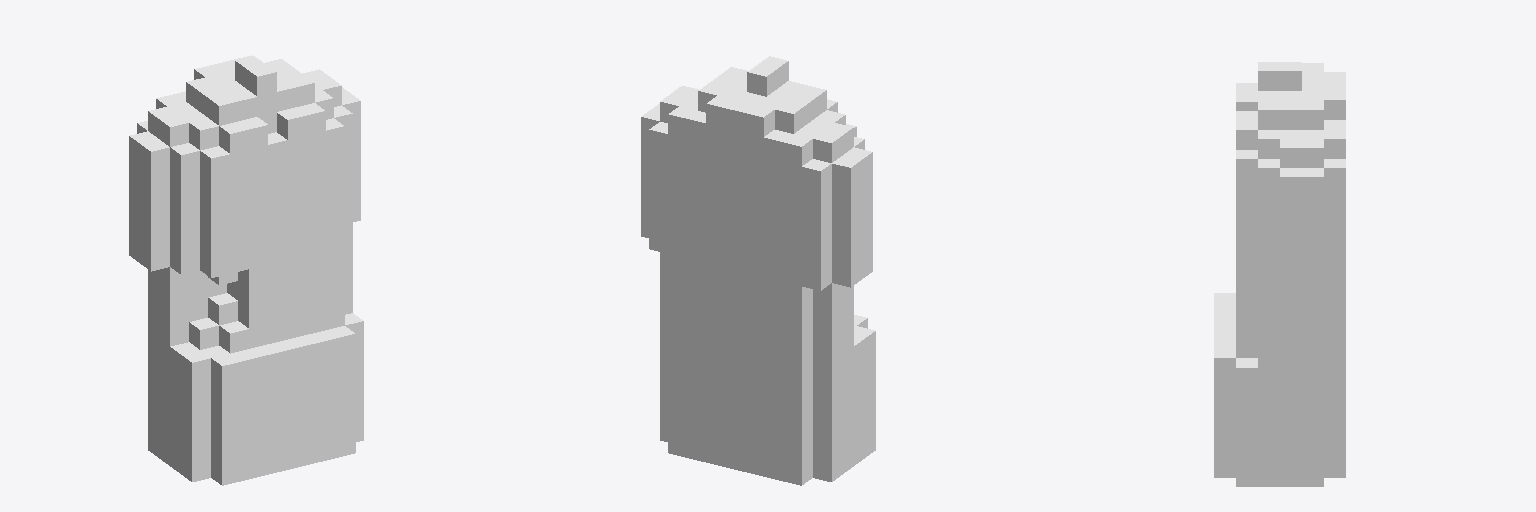
The model's file is Zed_3-0.obj.
3 renders of one model, left to right at view 1: azimuth 30°, elevation 25°; view 2: azimuth 150°, elevation 25°; view 3: azimuth 270°, elevation 25°, orthographic.
Visible parts, largest first — view 1: object 1; view 2: object 1; view 3: object 1.
Part boxes in pixels (x1,y1,x2,y2): object 1: (129, 55, 363, 485); object 1: (641, 56, 875, 485); object 1: (1214, 62, 1345, 486).
Bounding box in the file's own units: 1.1 × 1.9 × 0.6.